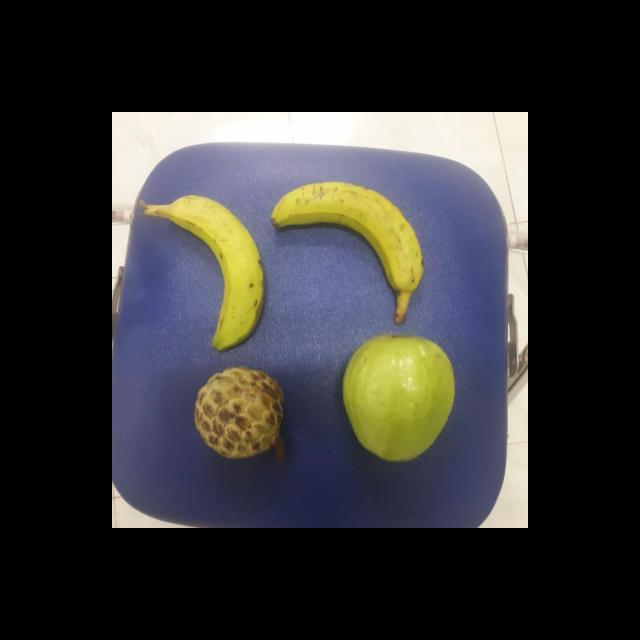Sakya fruit: (190, 366, 288, 461)
banana: (258, 180, 428, 296), (156, 188, 270, 352)
guava: (338, 332, 457, 465)
